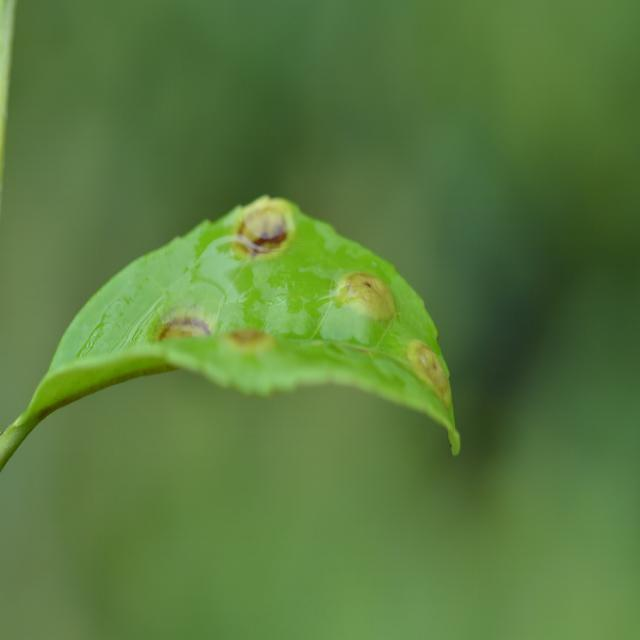Tea cake: (228, 191, 296, 262), (335, 258, 401, 323), (397, 334, 452, 392), (157, 309, 211, 361), (223, 316, 273, 363)
